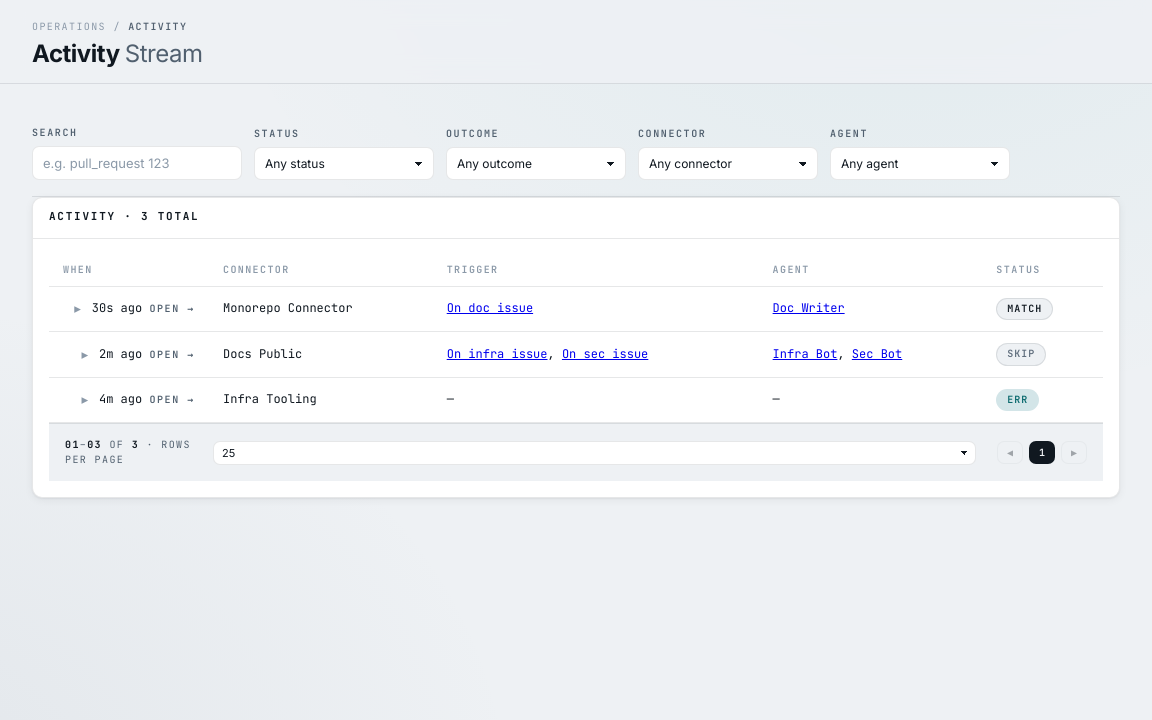
Activity › narrows results with multiple AND terms
Check: the link with aria-label "Open event e1" is shown, box [49,286,1103,332]
In the field named "search events": (137, 163) [32,146,242,180], type "pull_request 123"
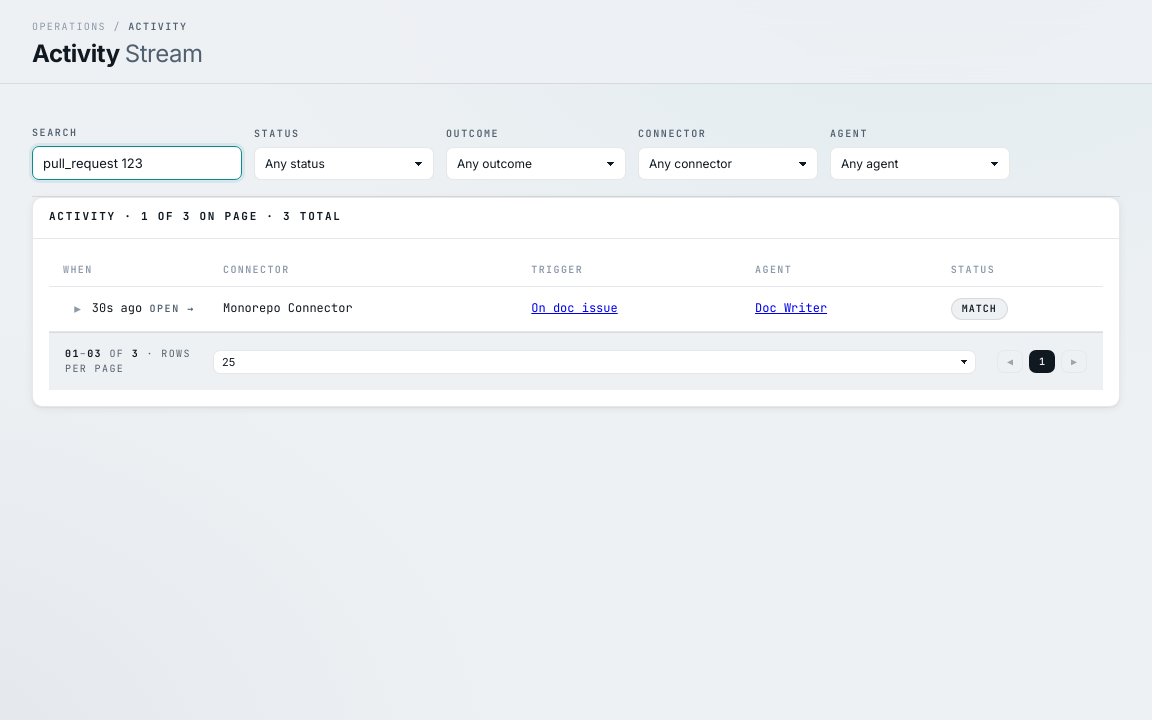
Check: the table shows "Monorepo Connector", box [223,300,353,316]
Check: the link "Infra Tooling" no longer shows "Infra Tooling"
// A term that matches nothing should show empty state
Replace the text in the field named "search events" with "pull_request 999": (137, 163) [32,146,242,180]
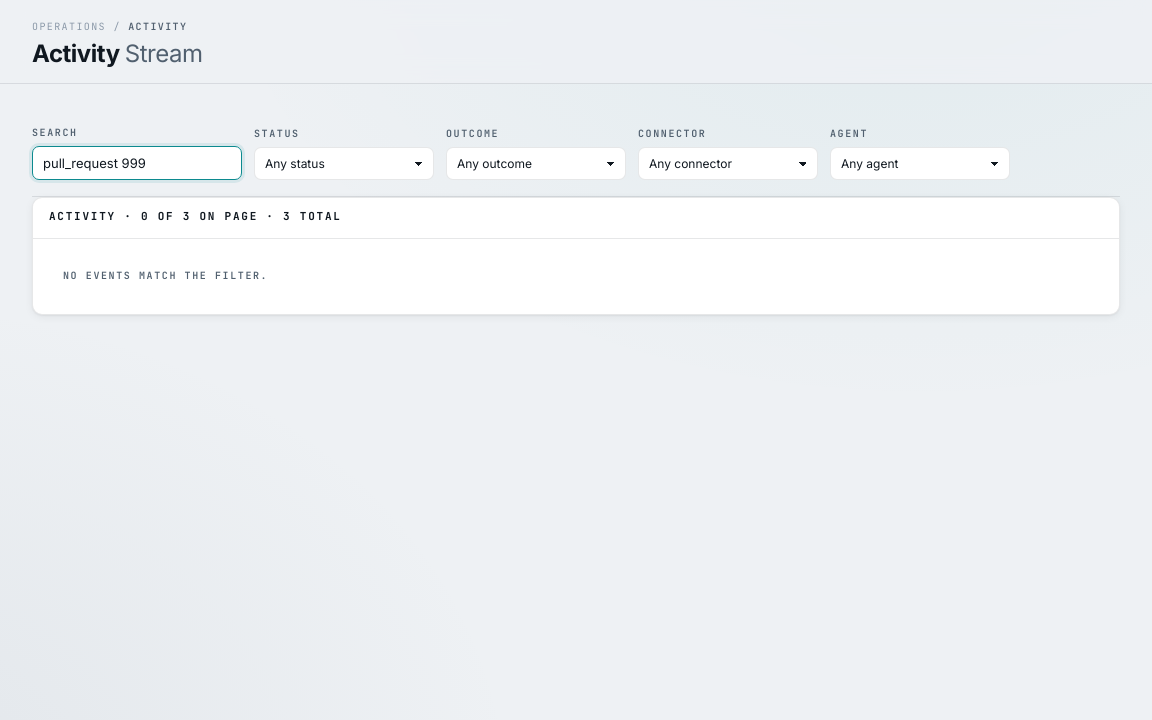
Check: the row "When Connector Trigger Agent Status" is gone
Check: the text "No events match the filter." is shown, box [63,269,268,282]
